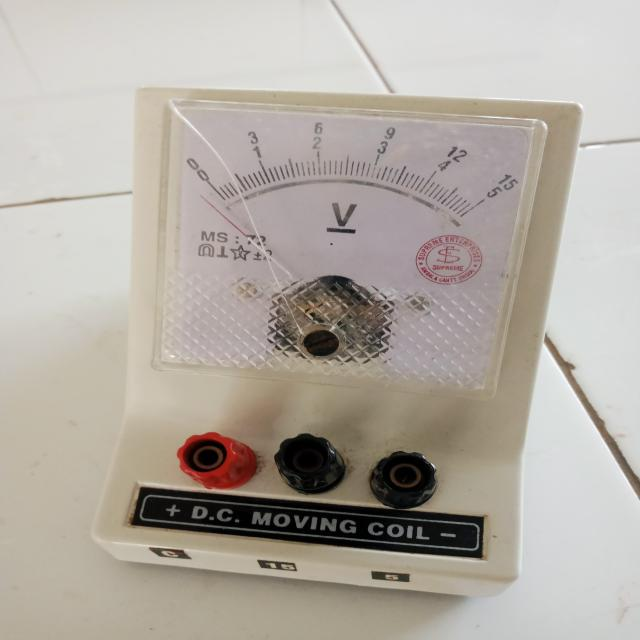Analog Voltmeter: (102, 82, 598, 606)
